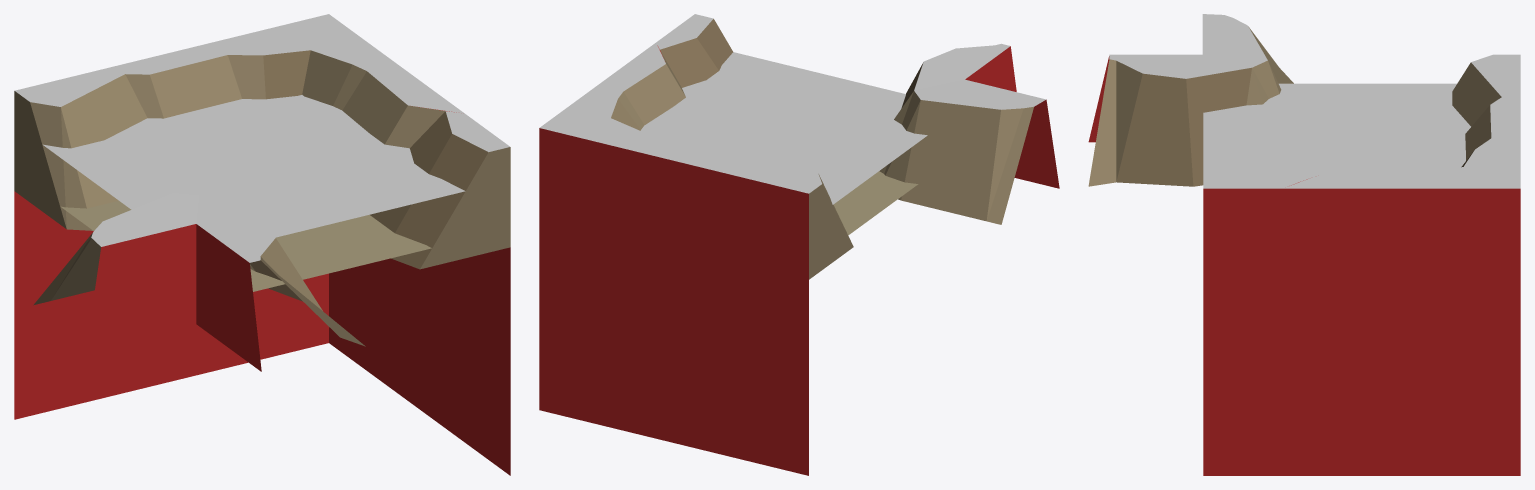
The model's file is Model_Tile_River_2WTR_CG.fbx.
3 views of the same model, side by side, from view 1: azimuth 30°, elevation 25°; view 2: azimuth 150°, elevation 25°; view 3: azimuth 270°, elevation 25° (orthographic). The views are drawn at different scales.
Parts seen in each view (by area): view 1: Model_Frost_Rivers10; view 2: Model_Frost_Rivers10; view 3: Model_Frost_Rivers10.
Part boxes in pixels (left/top/right/bottom): Model_Frost_Rivers10: left=14, top=14, right=510, bottom=475; Model_Frost_Rivers10: left=539, top=14, right=1059, bottom=475; Model_Frost_Rivers10: left=1088, top=14, right=1520, bottom=475.
Size of the model in its own units: 270 by 200 by 272.
